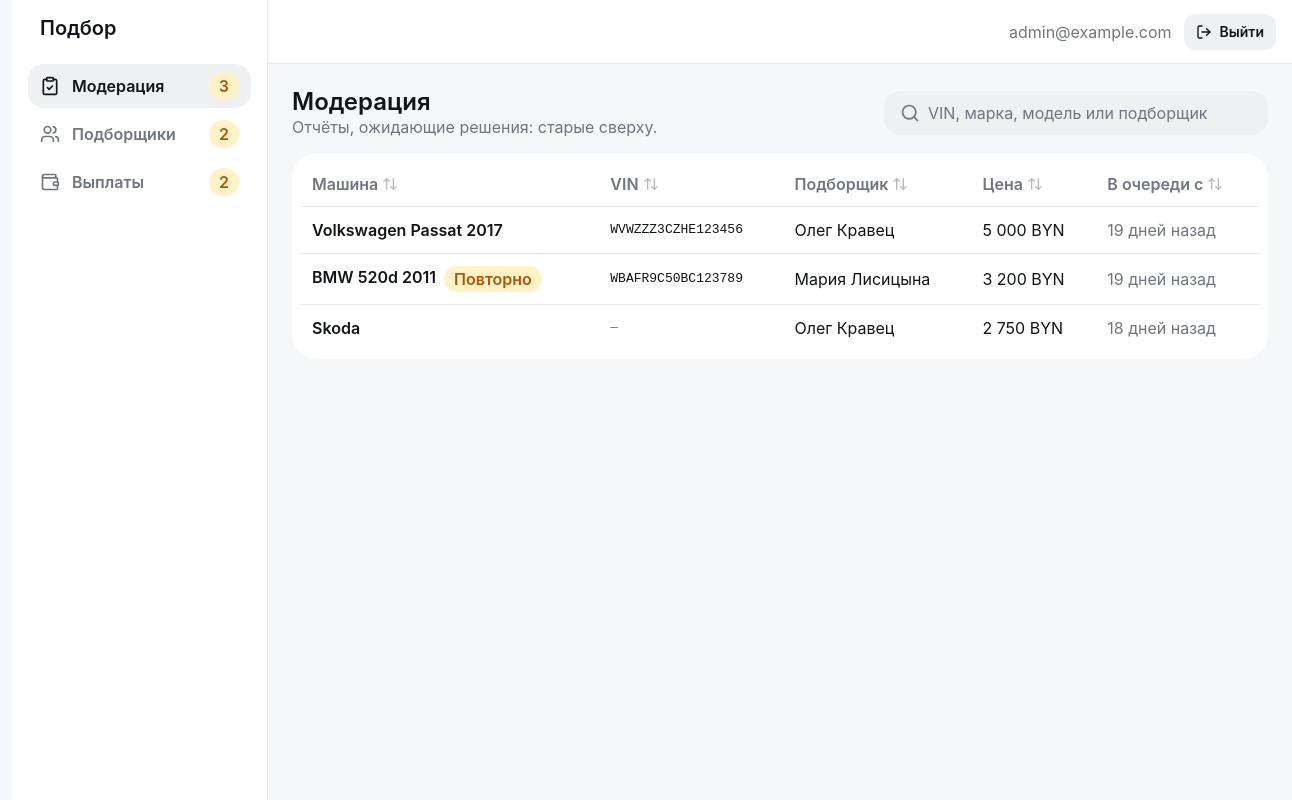
меню › клик по пункту переходит на раздел
Expected: the text "admin@example.com" is shown, 1009,20 -> 1172,42
Click the link "Выплаты 2": (140, 182) 28,160 -> 251,204
(page scrolled)
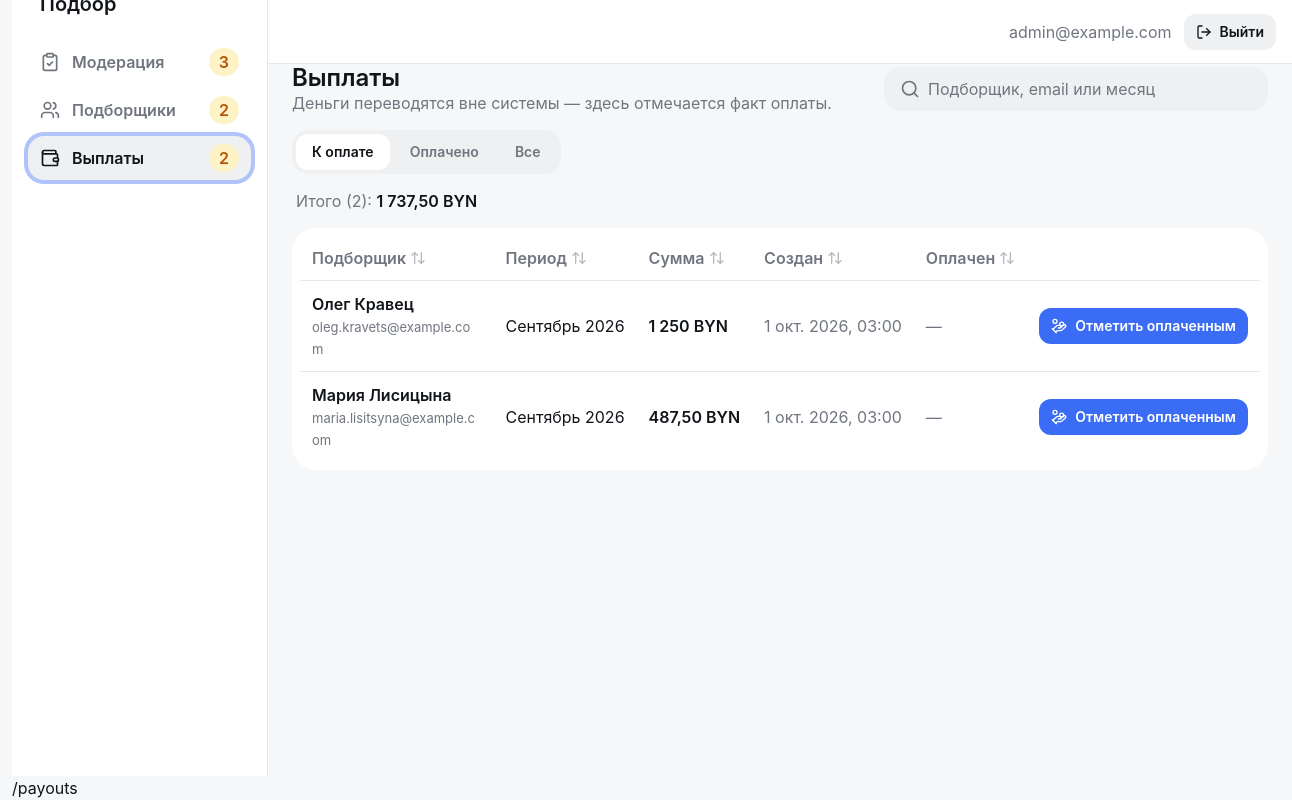
Expected: the text with test id "location" reads "/payouts", 12,778 -> 78,798
